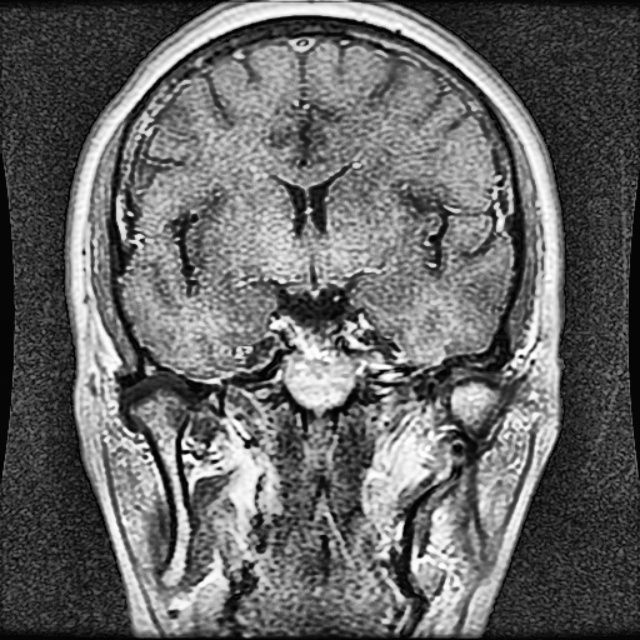Pituitary: (268, 310, 367, 357)
